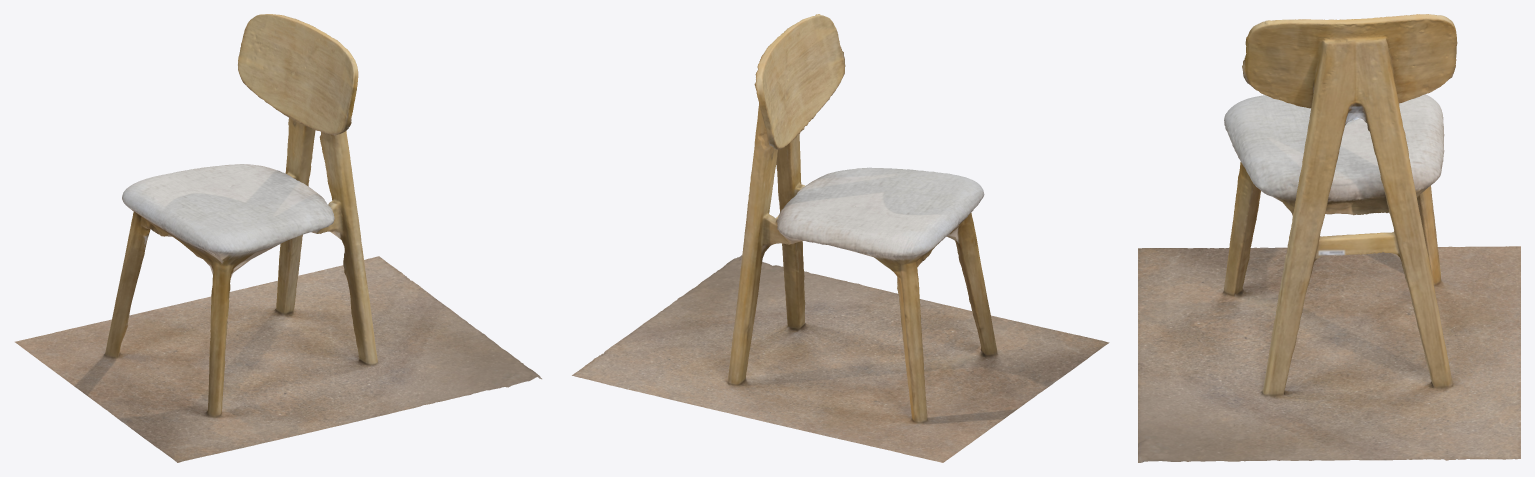
Rendered from chair.glb.
3 renders of one model, left to right at view 1: azimuth 30°, elevation 25°; view 2: azimuth 150°, elevation 25°; view 3: azimuth 270°, elevation 25°, orthographic. The views are drawn at different scales.
Visible parts, largest first — view 1: Object_4, Object_5; view 2: Object_4, Object_5; view 3: Object_4, Object_5.
Boxes of the visible parts, left/top/right/bottom form: Object_4: left=15, top=14, right=541, bottom=455; Object_5: left=15, top=105, right=506, bottom=462; Object_4: left=626, top=14, right=1090, bottom=462; Object_5: left=572, top=60, right=1109, bottom=462; Object_4: left=1138, top=14, right=1520, bottom=462; Object_5: left=1138, top=66, right=1520, bottom=461.
Size of the model in its own units: 0.4906 by 0.4038 by 0.3803.
1 material, 1 textured.
